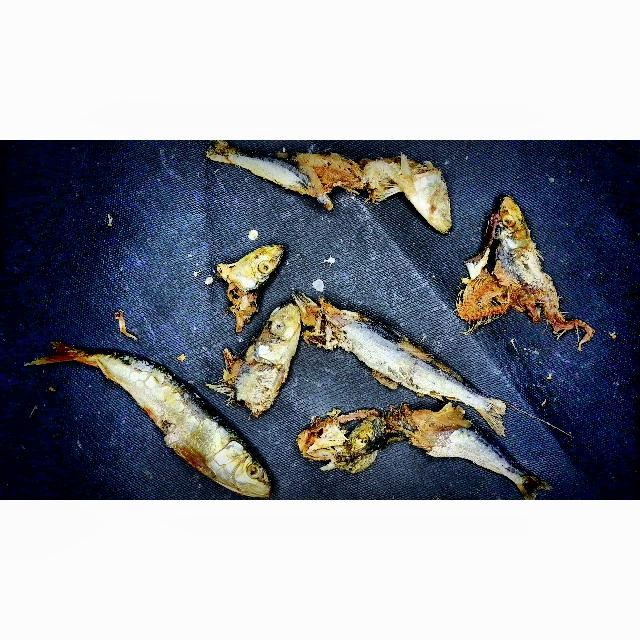Rejected_Body: (307, 298, 462, 399), (102, 345, 216, 451), (387, 400, 503, 482), (256, 147, 368, 212)
Rejected_Head: (459, 196, 581, 340), (213, 297, 307, 410), (358, 149, 455, 241), (203, 233, 293, 321), (176, 431, 278, 498), (292, 410, 388, 473)
Rejected_Tail: (23, 328, 116, 390), (453, 378, 514, 446), (186, 140, 263, 174), (500, 458, 548, 500)
